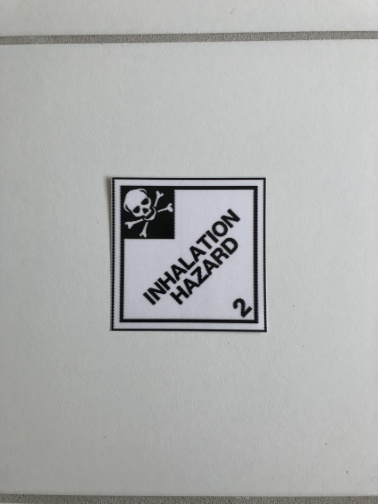InhalationHazard: (109, 176, 267, 333)
